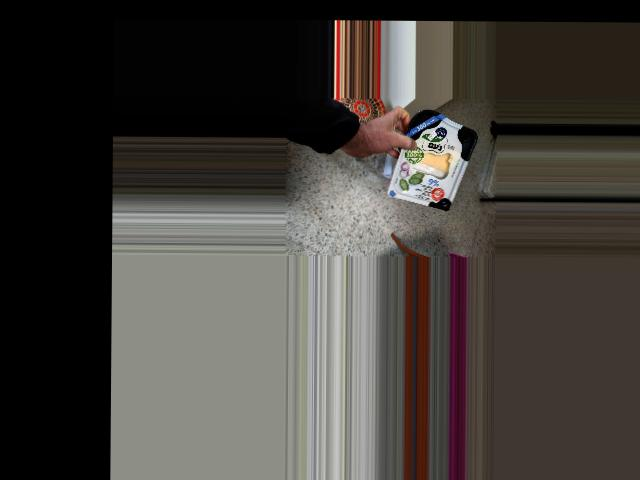cheese: (396, 113, 464, 209)
